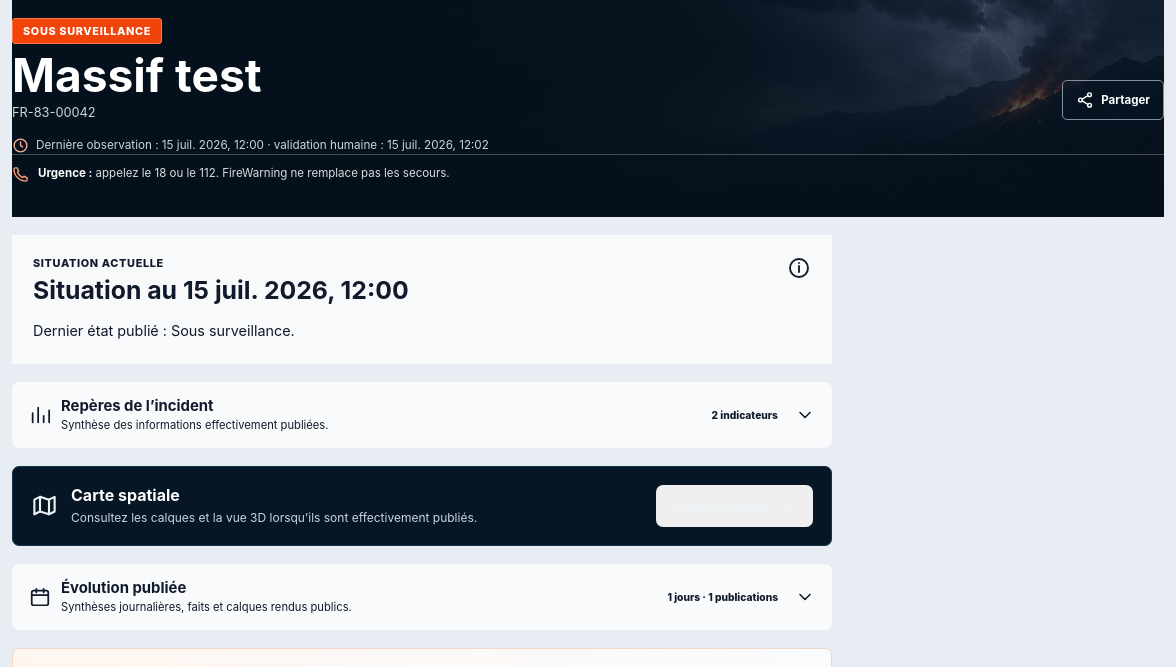
présente les mises à jour sans inventer de périmètre
The image size is (1176, 667).
expect the heading "Massif test" is shown: met, box top-left (12, 52), bottom-right (262, 100)
expect the text "Évolution publiée" is shown: met, box top-left (61, 579), bottom-right (186, 597)
Click the heading "Évolution publiée" at (124, 588), box top-left (29, 579), bottom-right (815, 614)
(page scrolled)
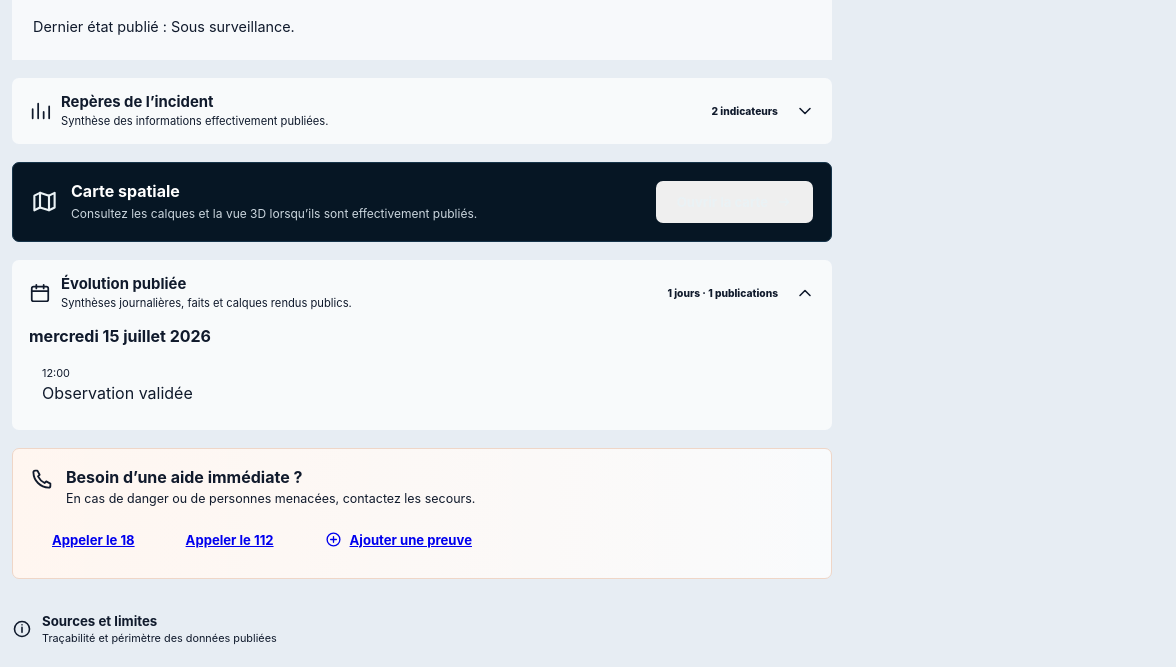
expect the text "Observation validée" is shown: met, box top-left (42, 383), bottom-right (193, 403)
